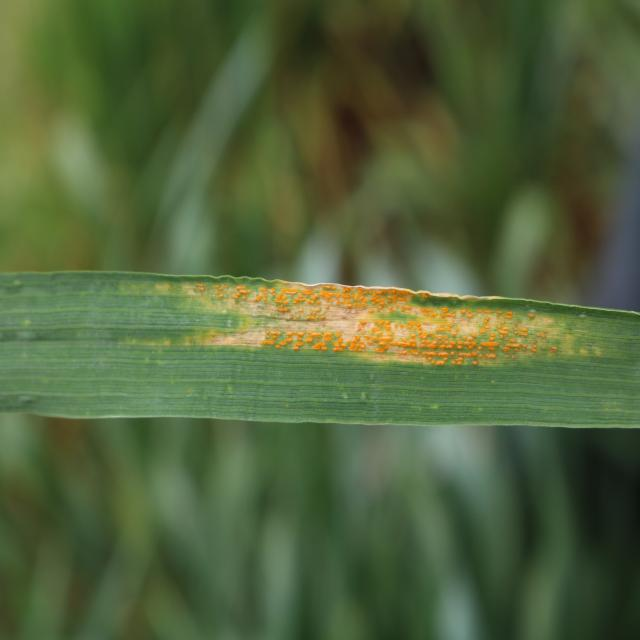Stripe Rust: (178, 280, 570, 368)
